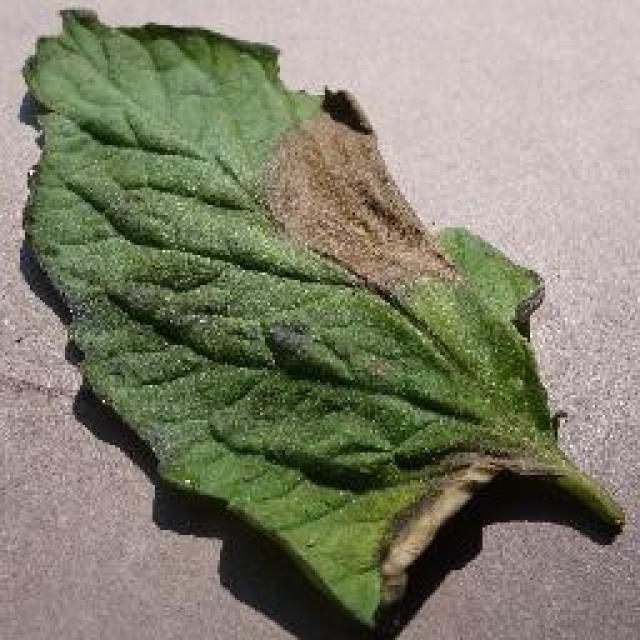Tomato___Late_blight: (25, 10, 622, 635)
